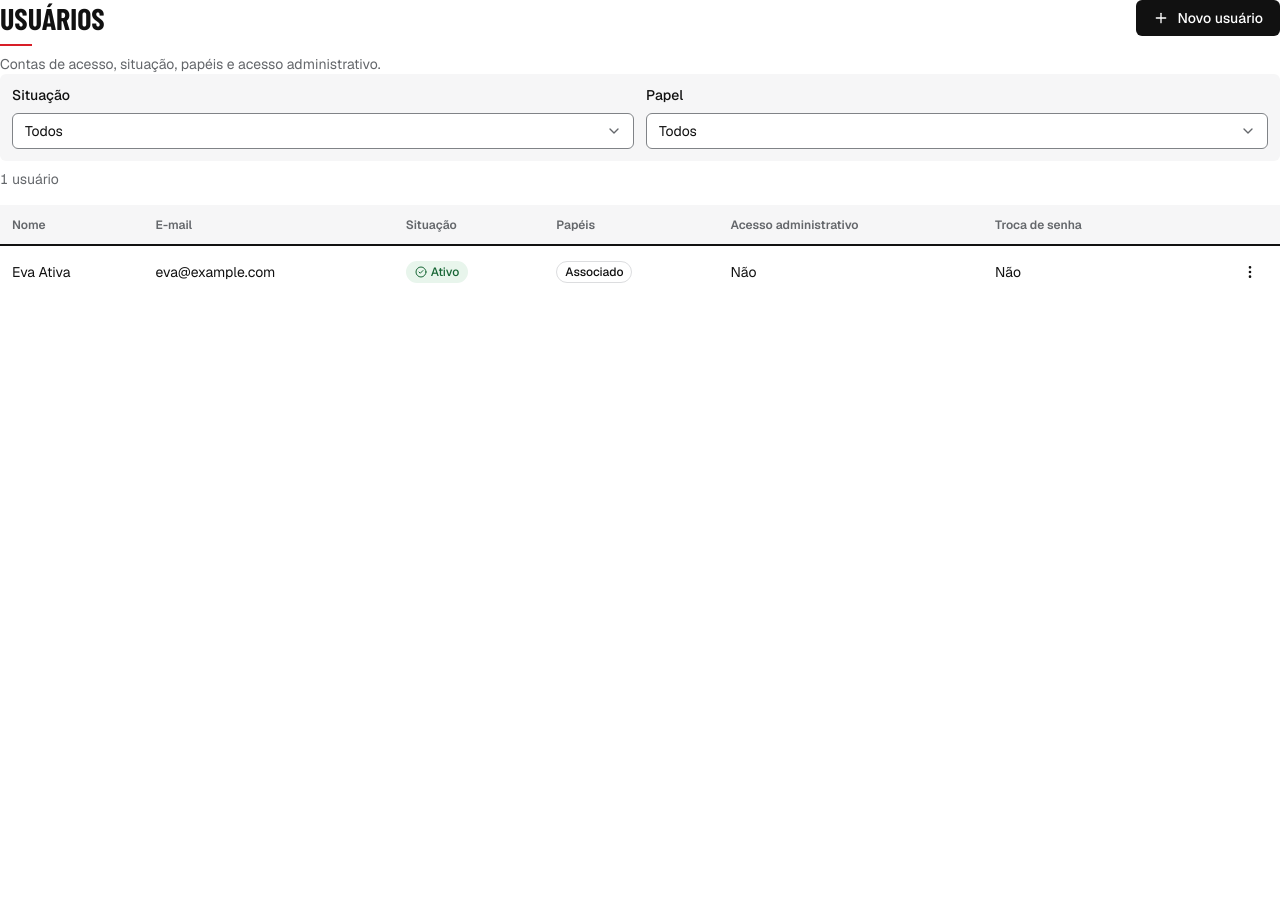
Scenario: confirmações (DSP-03 AC2, AC3 e AC5) › Desativar Eva Ativa: o erro da API aparece dentro da confirmação, que continua aberta
Expected: the text "eva@example.com" is shown, [144, 245, 394, 298]
Click the button named "Ações de Eva Ativa". click: (1250, 272)
box: [1232, 254, 1268, 290]
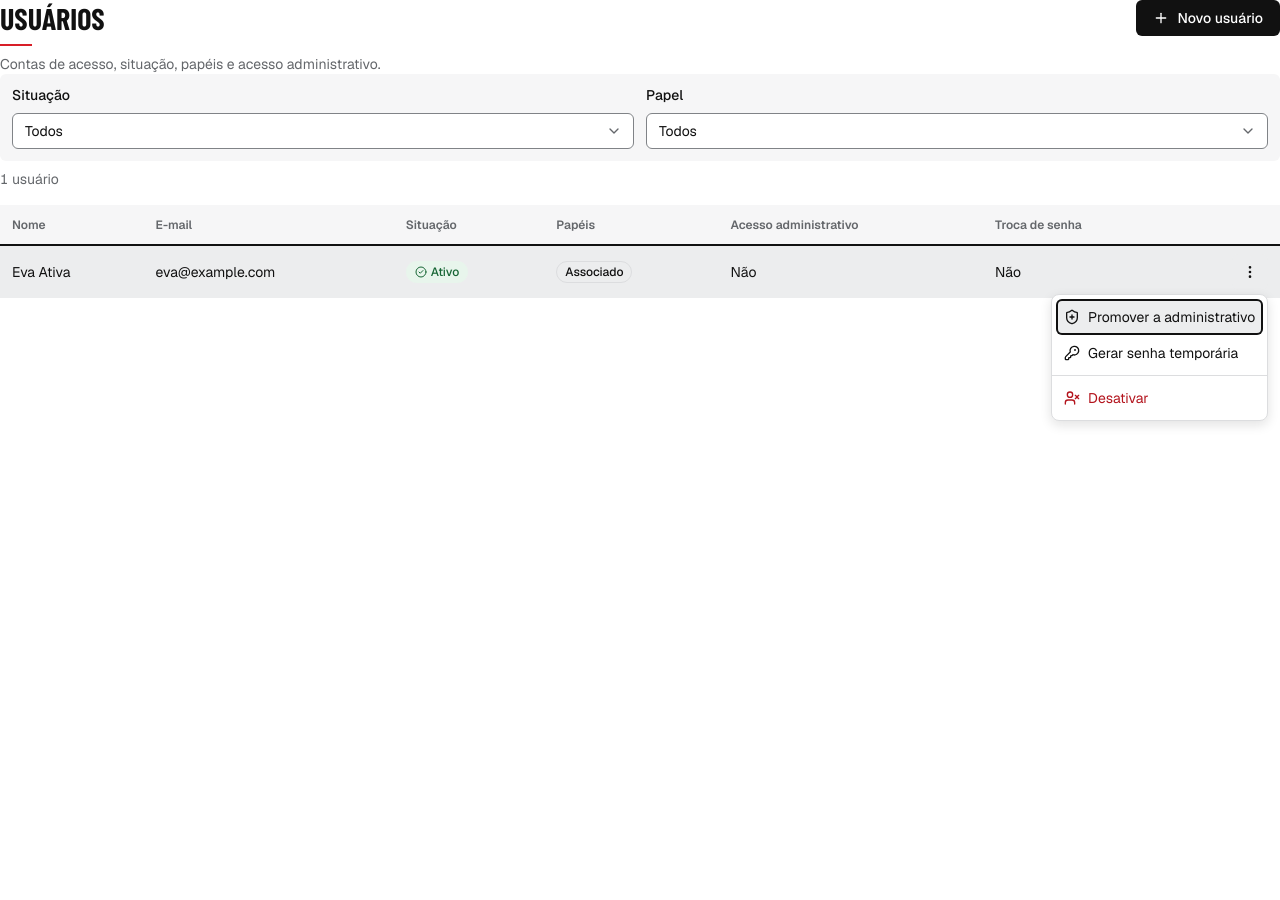
Now the menu is shown, box [1051, 294, 1268, 421]
Click the menu item with aria-label "Desativar Eva Ativa". click: (1106, 398)
box: [1064, 389, 1149, 407]
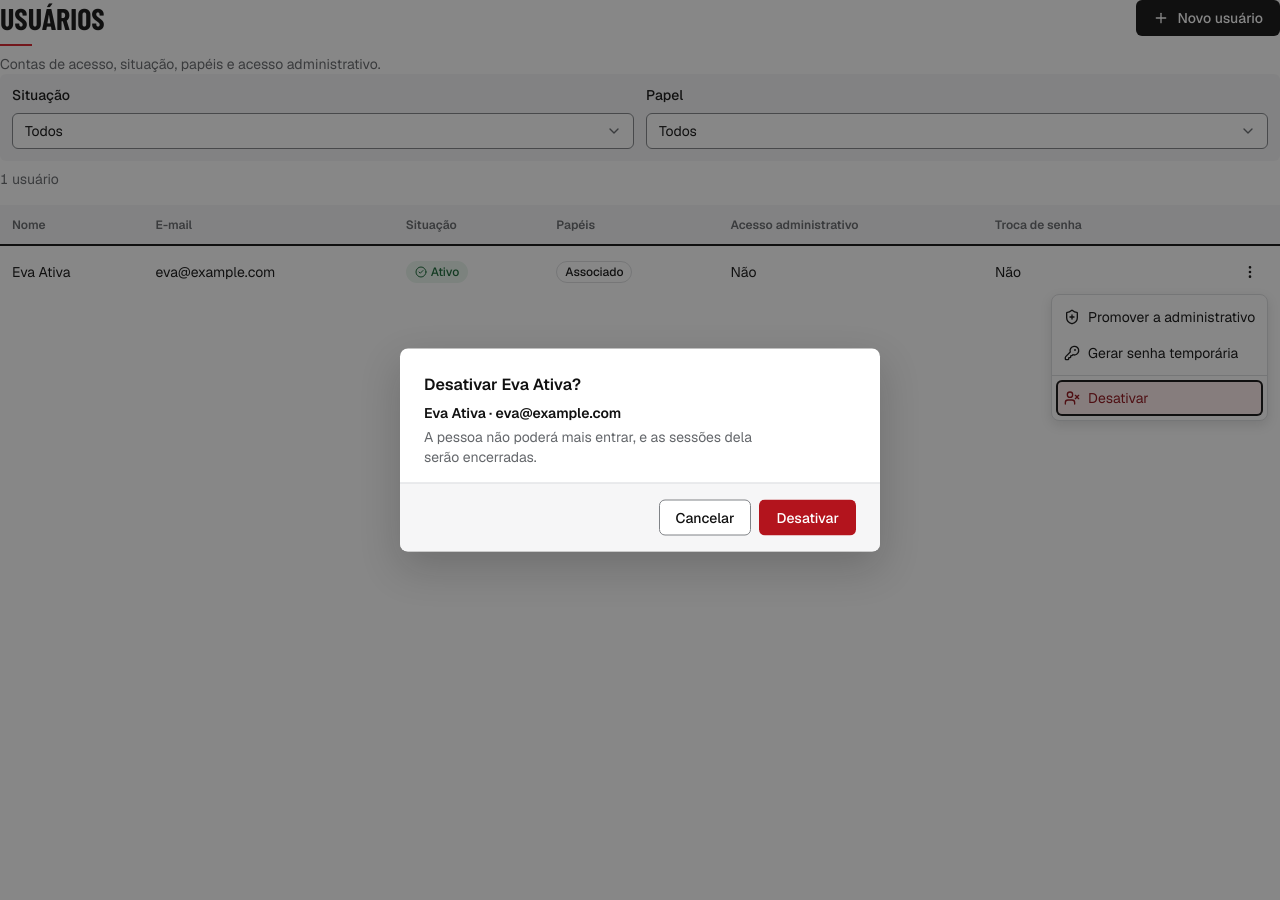
Click the button "Desativar". click: (808, 518)
box: [760, 500, 856, 536]
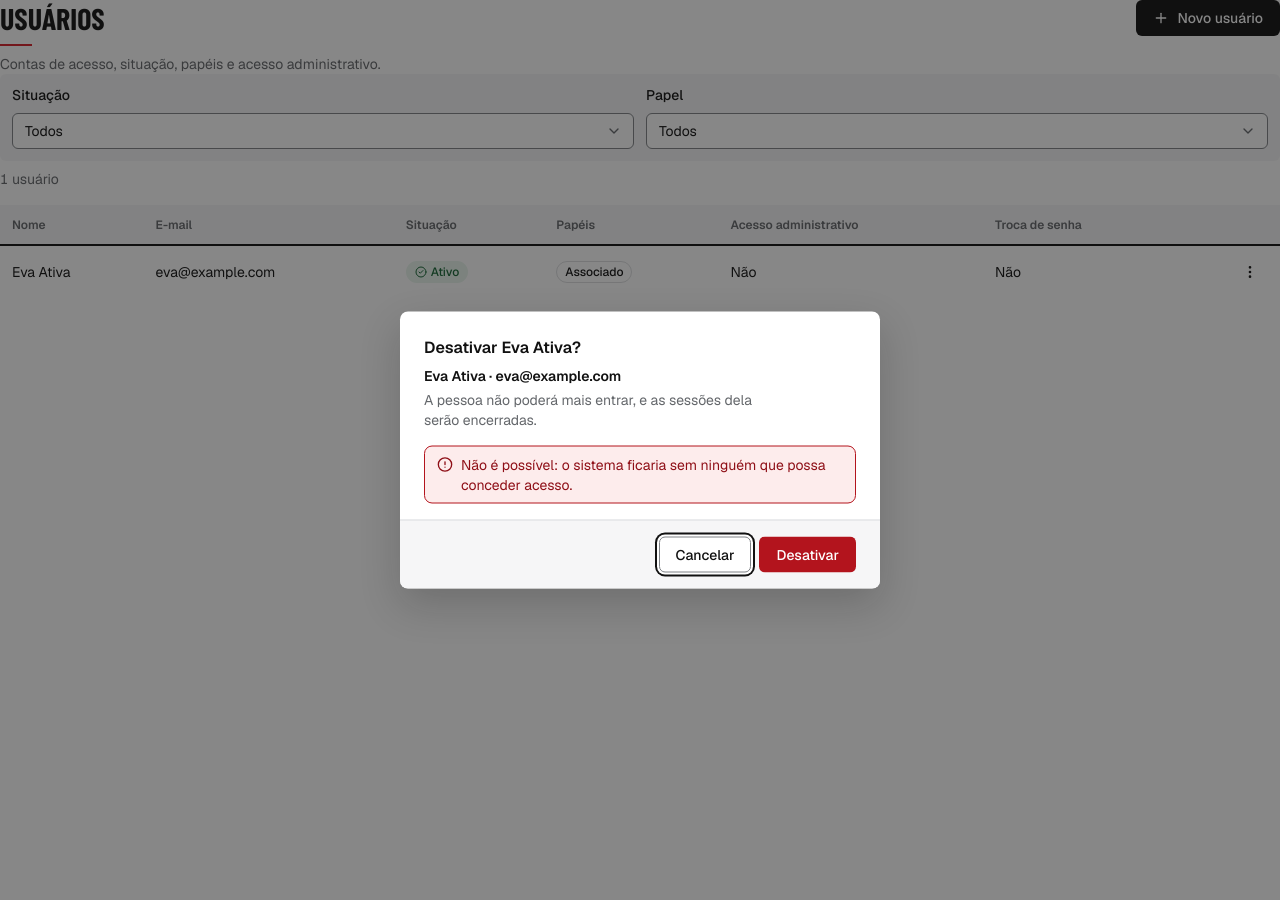
Now the text "Não é possível: o sistema ficaria sem ninguém que possa conceder acesso." is shown, box [461, 454, 843, 494]
